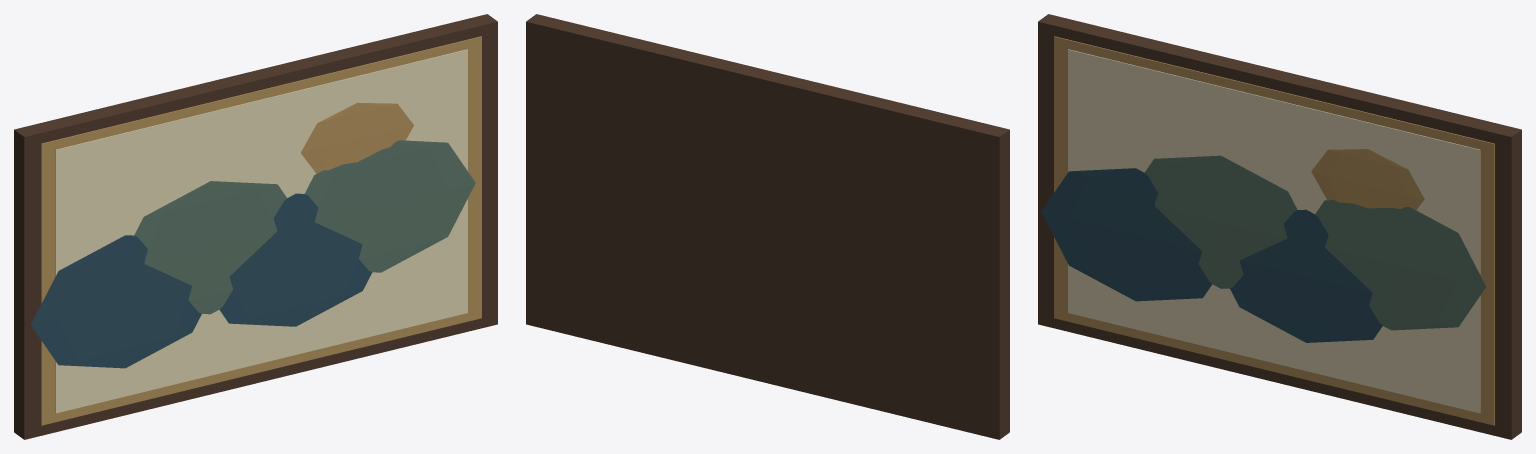
Rendered from LP_ArtGallery_PaintingSouthB.fbx.
The picture shows the model from 3 angles, left to right: view 1: azimuth 30°, elevation 25°; view 2: azimuth 150°, elevation 25°; view 3: azimuth 330°, elevation 25°; orthographic projection.
Visible parts, largest first — view 1: WarmIvory, Walnut, M_Museum_DeepBlue, SageUpholstery, AgedBrass; view 2: Walnut; view 3: WarmIvory, Walnut, M_Museum_DeepBlue, SageUpholstery, AgedBrass.
Boxes of the visible parts, x1,y1,x2,y2 form: WarmIvory: (55,49,467,413); Walnut: (14,14,497,439); M_Museum_DeepBlue: (31,193,372,368); SageUpholstery: (134,140,475,314); AgedBrass: (41,36,481,425); Walnut: (526,14,1009,439); WarmIvory: (1068,49,1480,413); Walnut: (1038,14,1521,439); M_Museum_DeepBlue: (1041,168,1382,342); SageUpholstery: (1144,155,1485,330); AgedBrass: (1054,36,1494,425).
Bounding box in the file's own units: 180 × 110 × 8.
